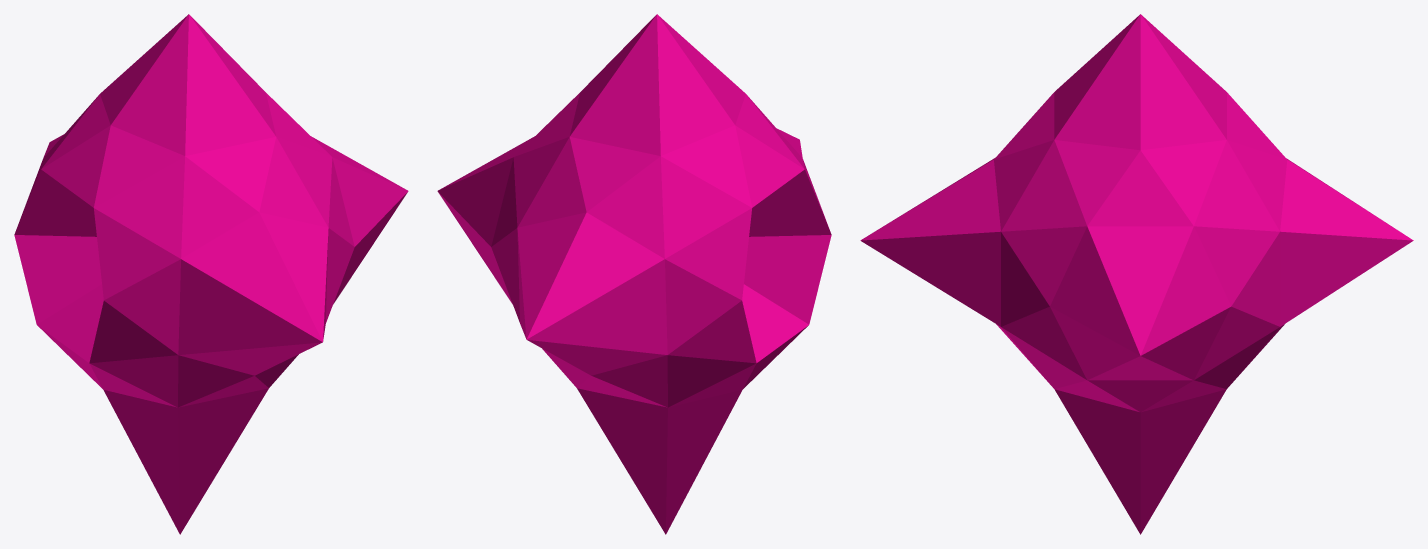
Rendered from antivirus.fbx.
3 renders of one model, left to right at view 1: azimuth 30°, elevation 25°; view 2: azimuth 150°, elevation 25°; view 3: azimuth 270°, elevation 25°, orthographic.
Visible parts, largest first — view 1: Icosphere; view 2: Icosphere; view 3: Icosphere.
Part boxes in pixels (x1,y1,x2,y2): Icosphere: (14,14,408,534); Icosphere: (437,14,831,534); Icosphere: (860,14,1413,534).
Size of the model in its own units: 237 by 336 by 321.
